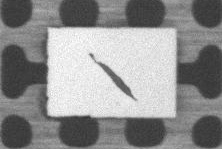DIE_INK: (86, 52, 137, 102)
